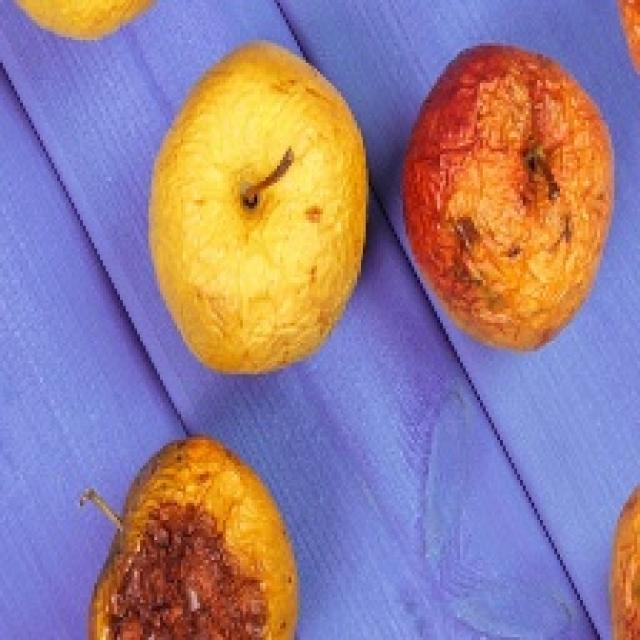apple: (149, 43, 369, 373), (403, 45, 612, 349), (81, 435, 297, 639)
